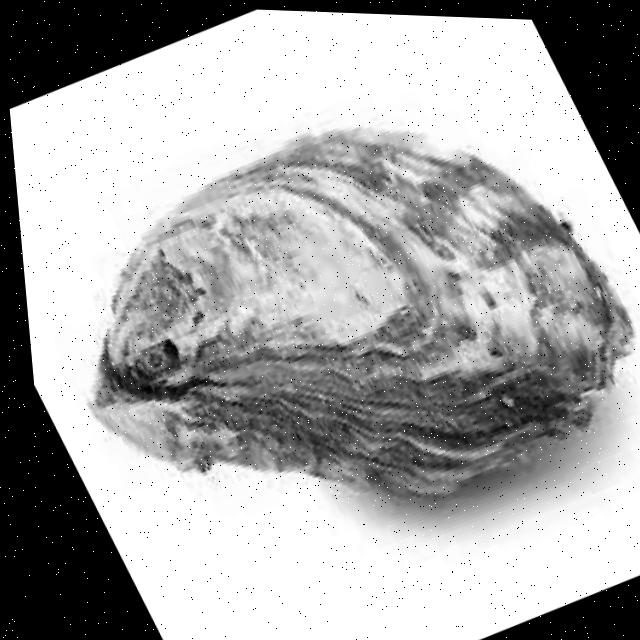Oyster-Closed: (95, 124, 639, 499)
